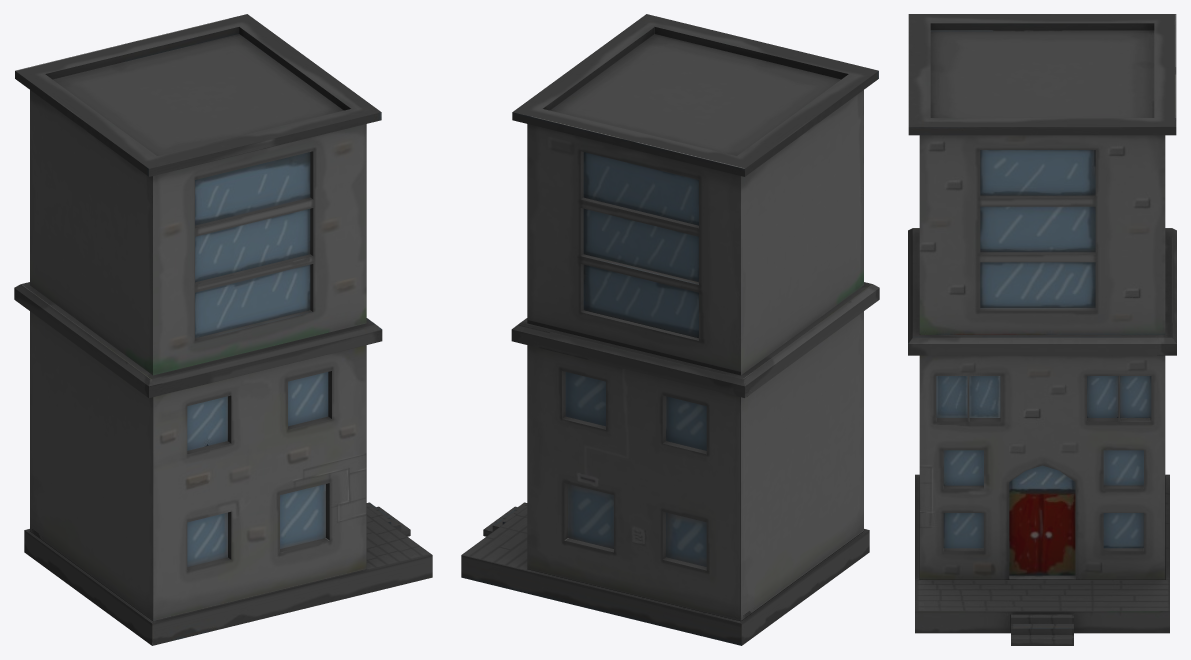
The model's file is 도시화.glb.
3 renders of one model, left to right at view 1: azimuth 30°, elevation 25°; view 2: azimuth 150°, elevation 25°; view 3: azimuth 270°, elevation 25°, orthographic.
Size of the model in its own units: 1.7 by 2.5 by 1.27.
Materials: 1 (1 with a texture image).
